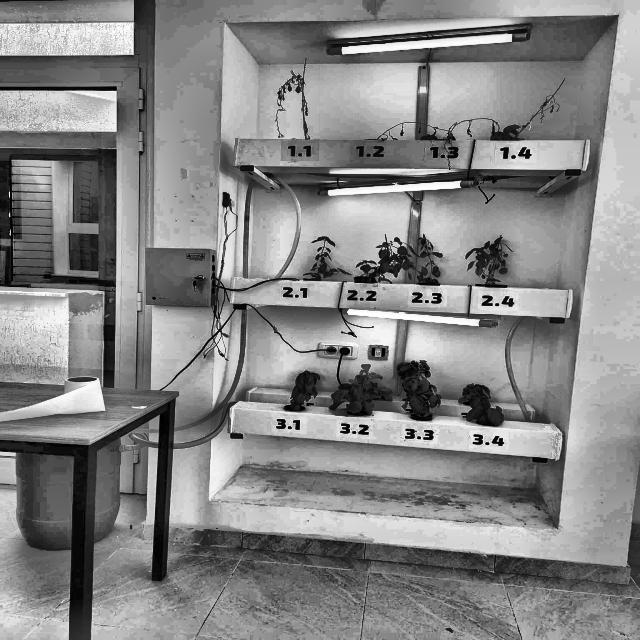plants: (504, 77, 567, 141), (276, 58, 314, 138), (396, 359, 441, 418), (354, 232, 408, 281), (464, 236, 516, 285), (350, 362, 391, 410), (304, 234, 341, 280), (284, 370, 328, 407), (438, 116, 496, 139), (331, 383, 373, 414), (376, 122, 442, 141), (458, 394, 499, 424), (416, 237, 440, 283), (457, 384, 492, 406), (490, 124, 520, 140)
